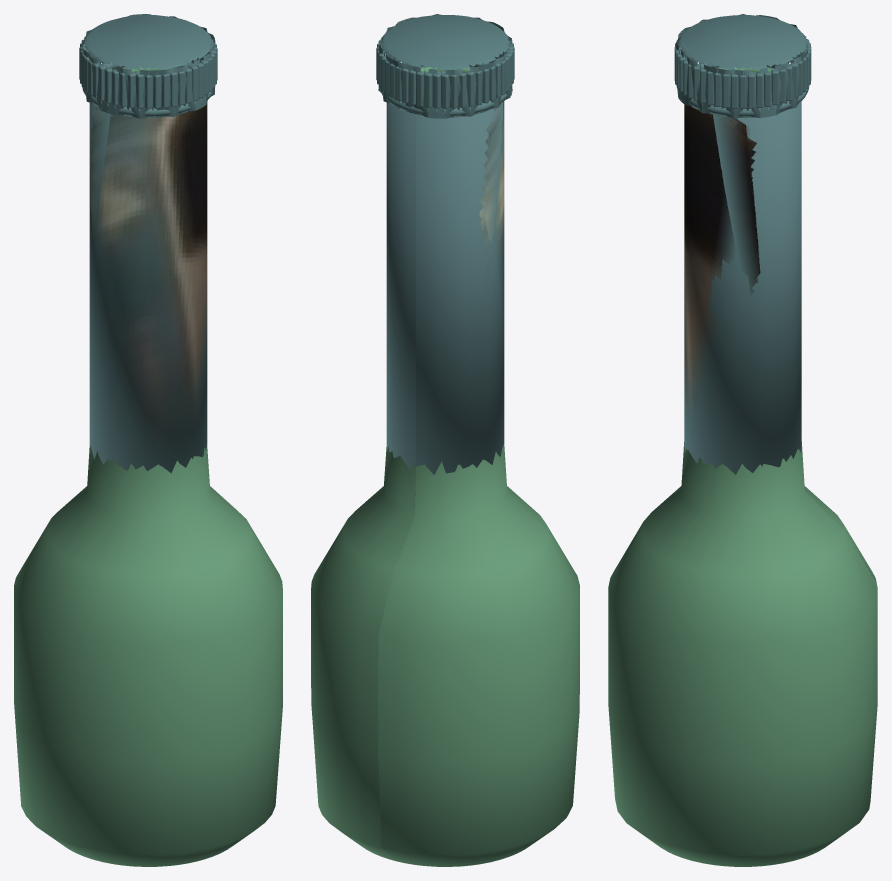
3 views of the same model, side by side, from view 1: azimuth 30°, elevation 25°; view 2: azimuth 150°, elevation 25°; view 3: azimuth 270°, elevation 25° (orthographic).
Visible parts, largest first — view 1: thin shell with corrected shoulder, long photographed neck sleeve, removable closure, closure lower bead; view 2: thin shell with corrected shoulder, long photographed neck sleeve, removable closure, closure lower bead; view 3: thin shell with corrected shoulder, long photographed neck sleeve, removable closure, closure lower bead.
Boxes of the visible parts, box(x1,y1,x2,y2) form: thin shell with corrected shoulder: box(14, 444, 282, 866); long photographed neck sleeve: box(89, 103, 207, 473); removable closure: box(81, 14, 215, 118); closure lower bead: box(82, 61, 212, 116); thin shell with corrected shoulder: box(311, 444, 579, 866); long photographed neck sleeve: box(386, 101, 504, 484); removable closure: box(378, 14, 512, 118); closure lower bead: box(379, 62, 509, 115); thin shell with corrected shoulder: box(608, 441, 877, 866); long photographed neck sleeve: box(684, 101, 801, 474); removable closure: box(676, 14, 808, 118); closure lower bead: box(681, 62, 808, 116).
Size of the model in its own units: 0.0378 by 0.1215 by 0.0378.
4 materials, 1 textured.
